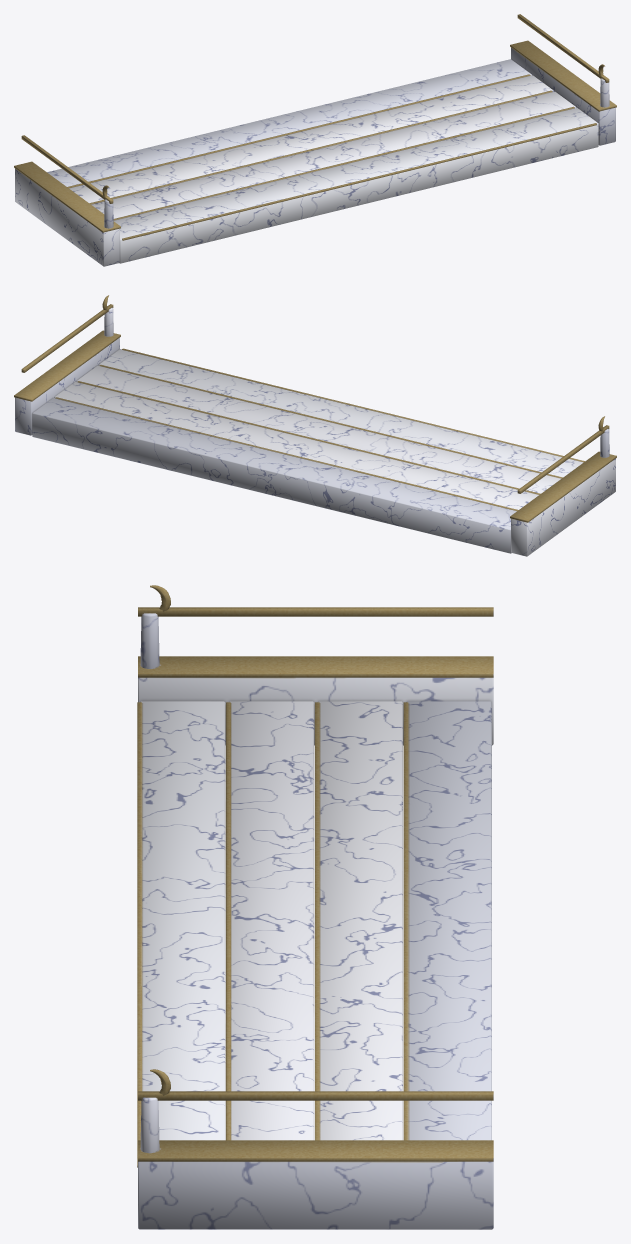
Rendered from MoonBridgeExtra.fbx.
The picture shows the model from 3 angles, top to bottom: view 1: azimuth 30°, elevation 25°; view 2: azimuth 150°, elevation 25°; view 3: azimuth 270°, elevation 25°; orthographic projection. The views are drawn at different scales.
Visible parts, largest first — view 1: MoonDeck; view 2: MoonDeck; view 3: MoonDeck.
Part boxes in pixels (x1,y1,x2,y2): MoonDeck: (14, 14, 616, 266); MoonDeck: (14, 295, 616, 556); MoonDeck: (137, 585, 493, 1229).
Size of the model in its own units: 40.12 by 5.79 by 12.04.
1 material, 1 textured.
